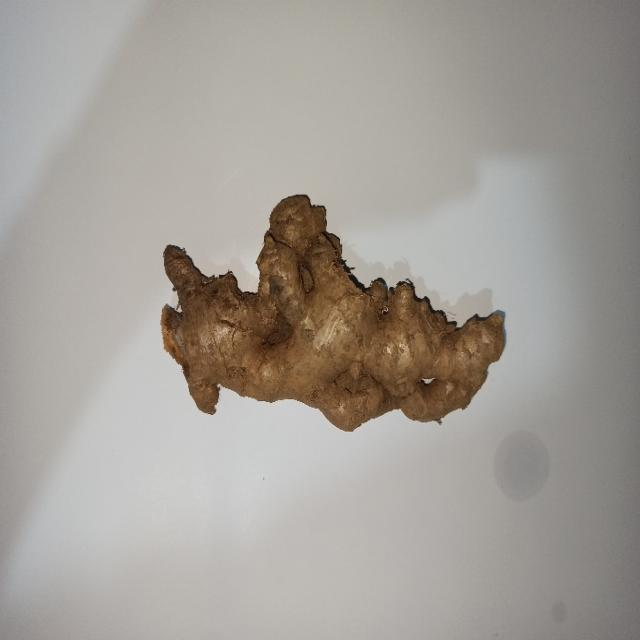ginger: (161, 193, 508, 436)
